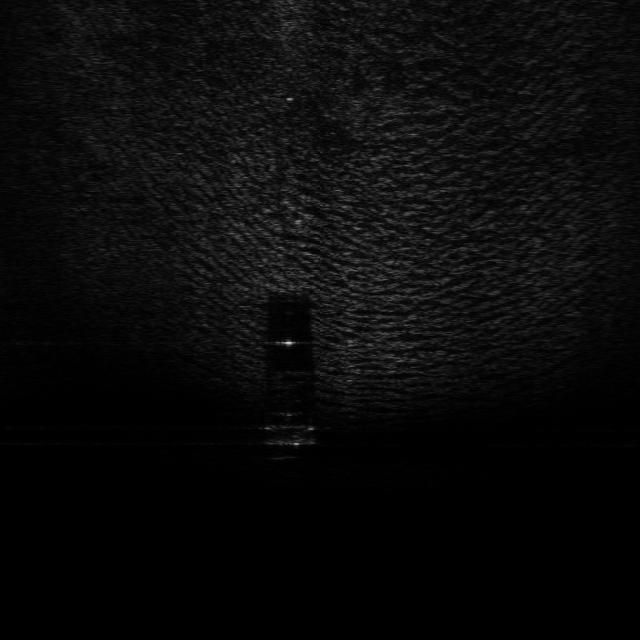cube: (262, 424, 318, 446)
